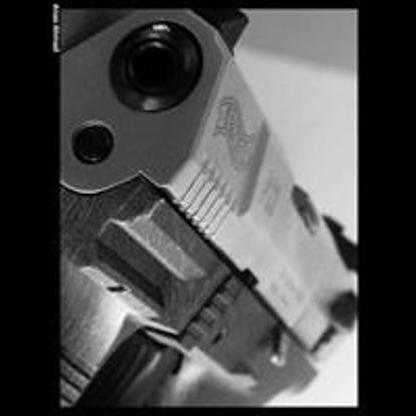weapon: (58, 9, 358, 407)
